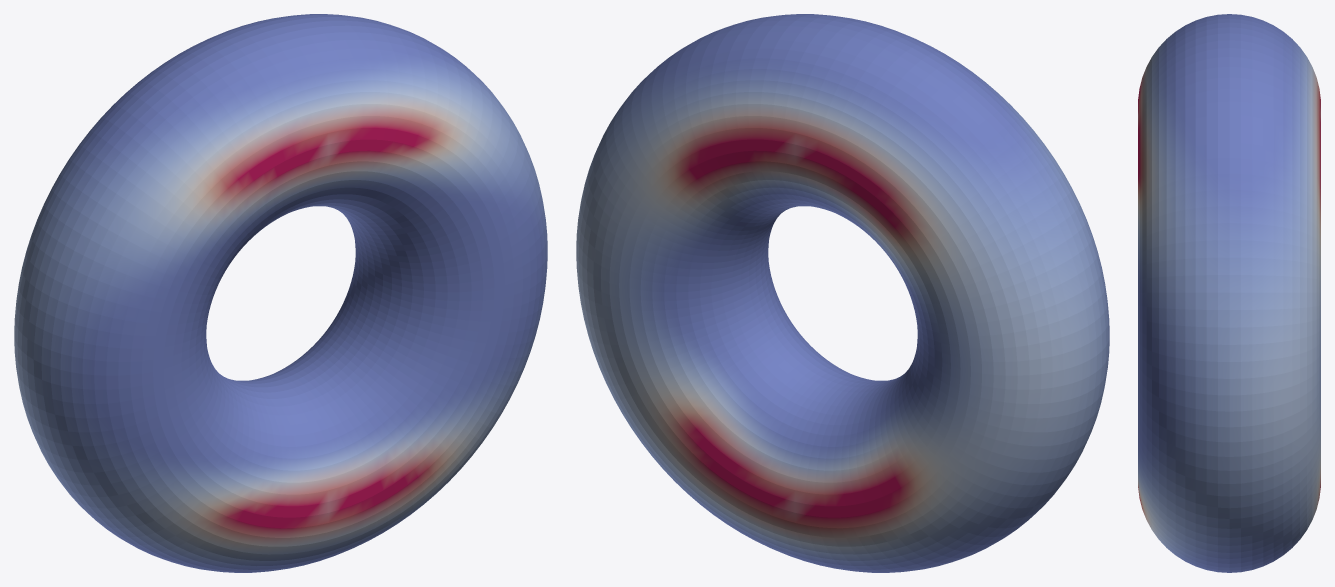
The picture shows the model from 3 angles, left to right: view 1: azimuth 30°, elevation 25°; view 2: azimuth 150°, elevation 25°; view 3: azimuth 270°, elevation 25°; orthographic projection. The views are drawn at different scales.
Visible parts, largest first — view 1: world; view 2: world; view 3: world.
Boxes of the visible parts, x1,y1,x2,y2 form: world: (14, 14, 547, 572); world: (576, 14, 1109, 572); world: (1138, 14, 1320, 572).
Size of the model in its own units: 15.87 by 15.87 by 5.19.
